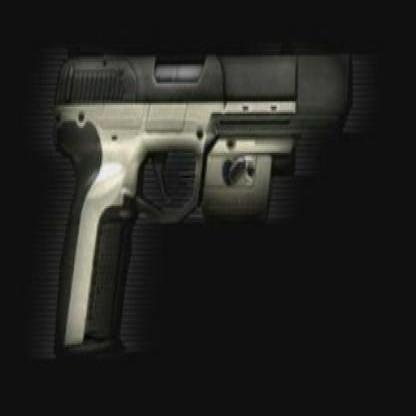pistol: (48, 35, 352, 364)
